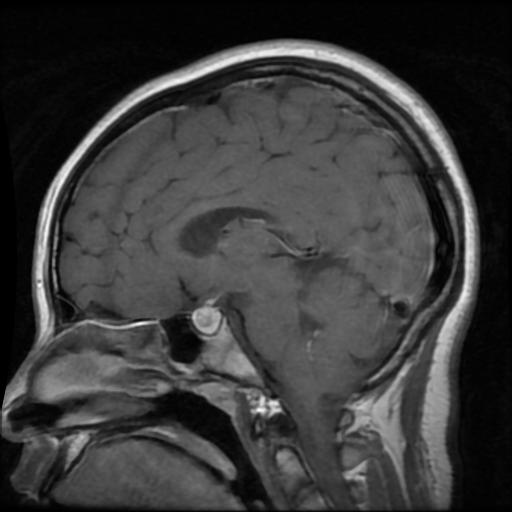Pituirity_tumour: (191, 305, 221, 334)
